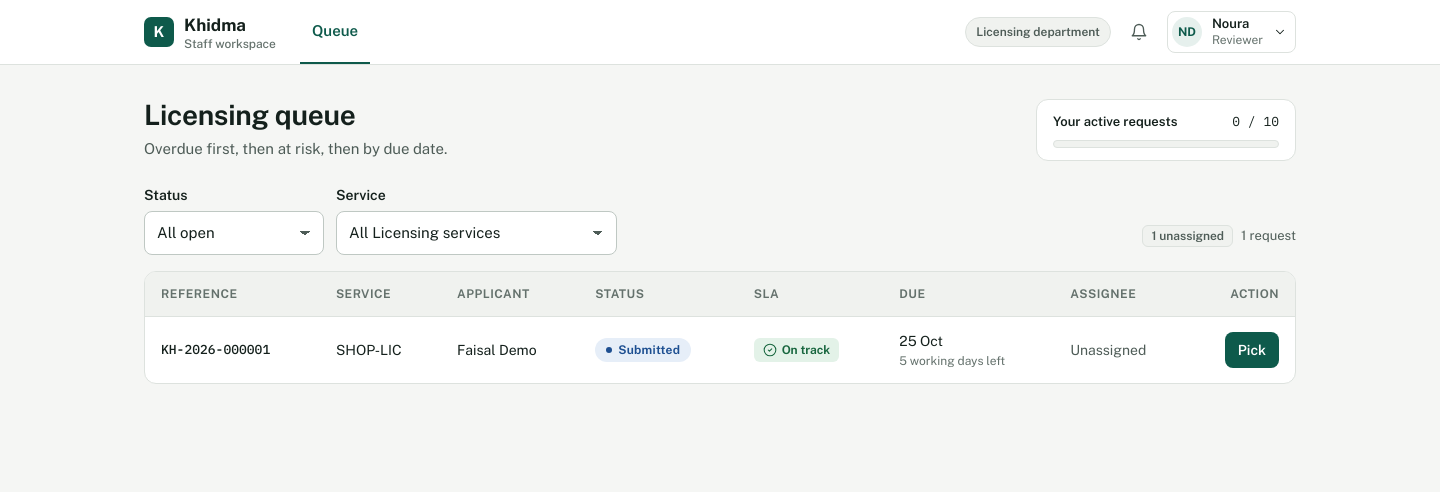
Test: staff screens › S-09 explains LOAD_LIMIT when a pick is refused (BR-06)
The image size is (1440, 492).
Click the button "Pick" at (1252, 350), box [1225,332,1279,368]
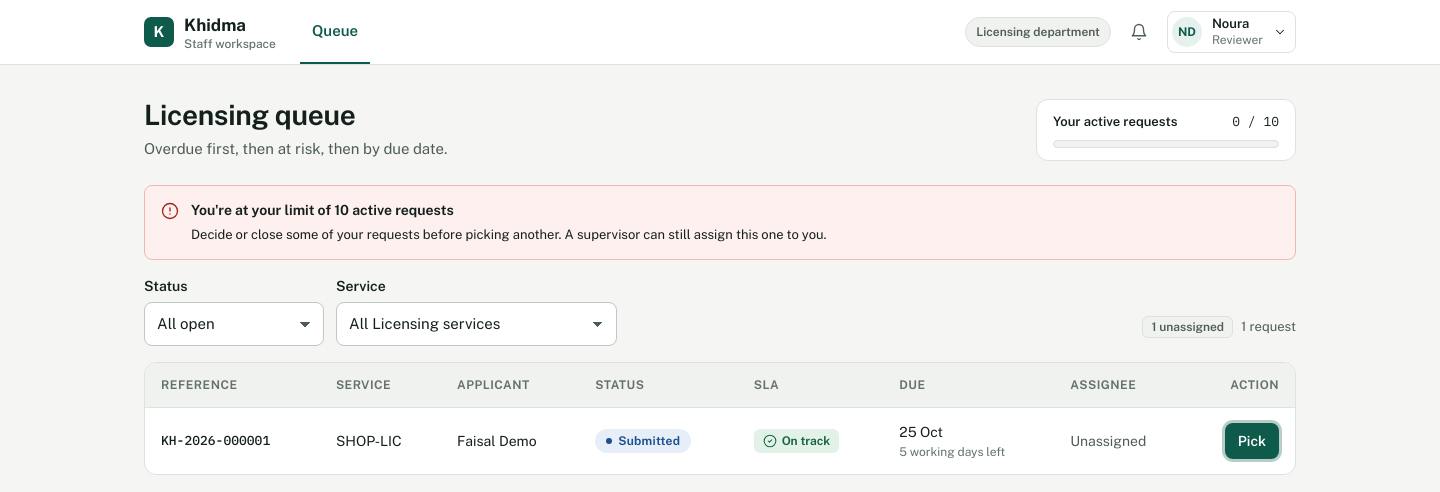
Check: the message shows "You're at your limit of 10 active requests", box [191,202,454,218]
